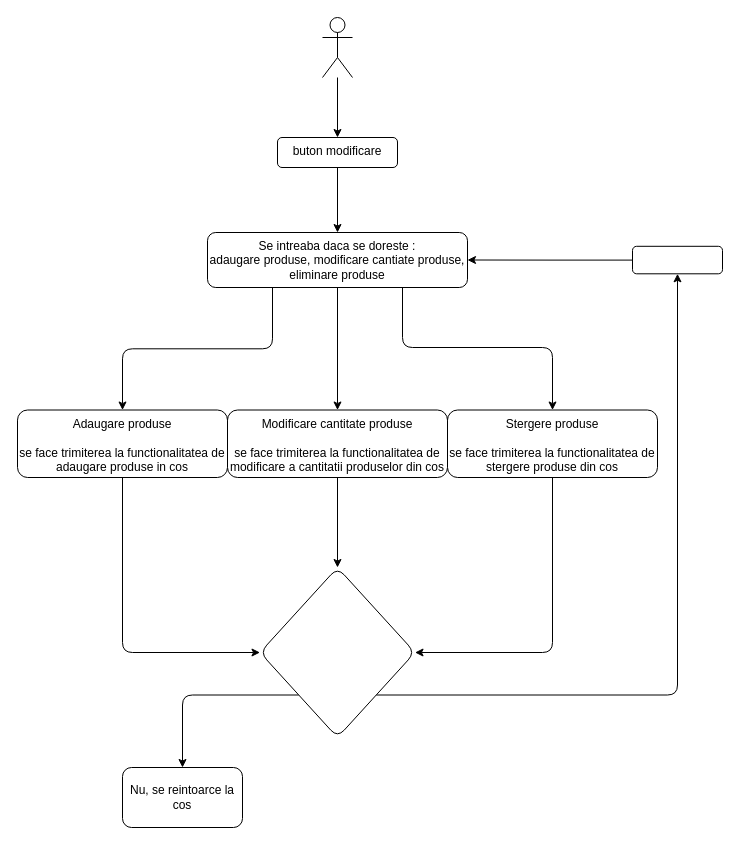
Image size: 740x845. Some labels were removed from this diagram. The box of each missing label's shape, as (x1, y1, x2, y2) in pixels:
Cos: (322, 16, 352, 78)
Da,: (632, 245, 722, 274)
Se mai modifica ceva ?: (259, 566, 415, 738)
